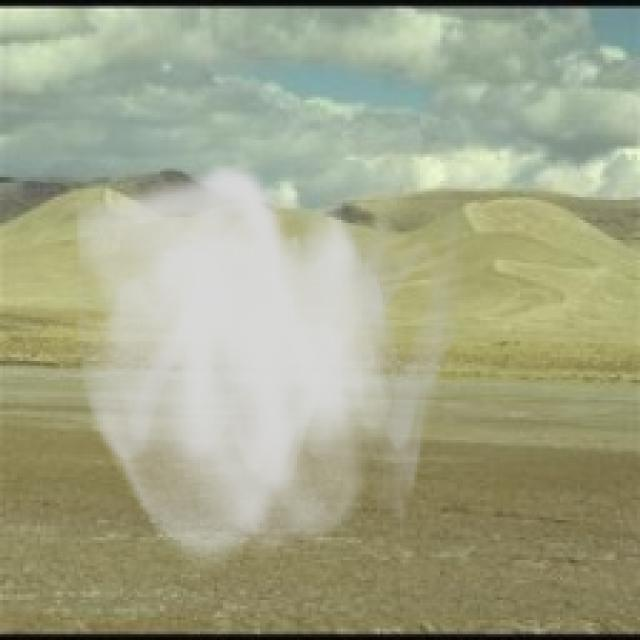smoke: (63, 160, 468, 577)
